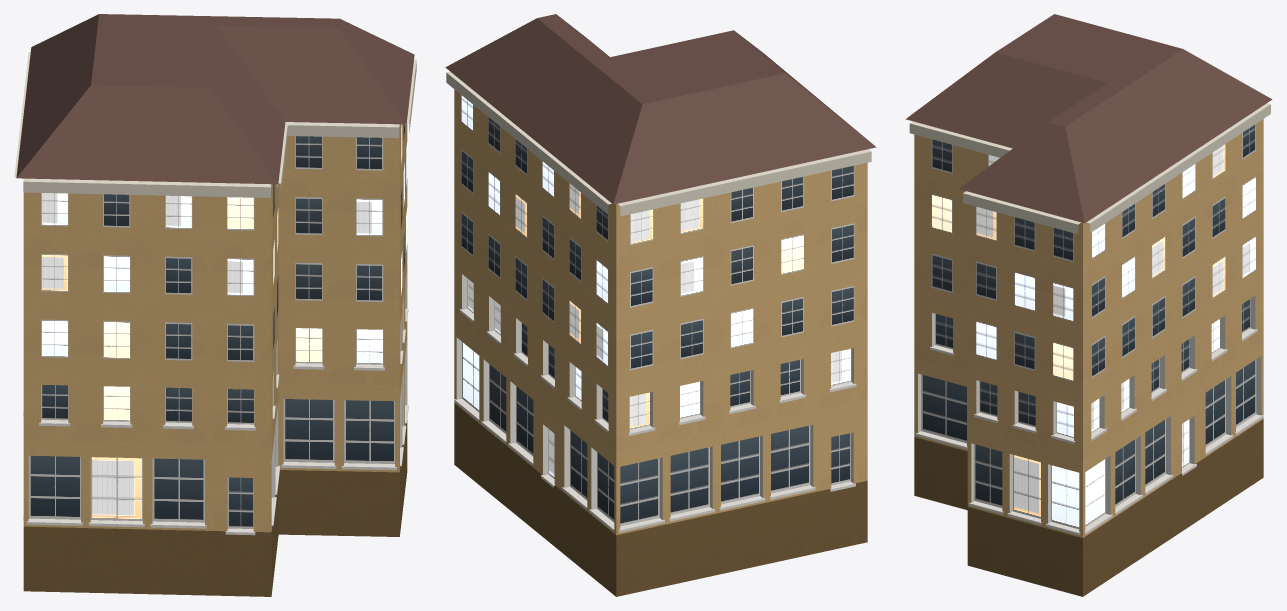
Rendered from z3c_hb_ochre.glb.
The picture shows the model from 3 angles, left to right: view 1: azimuth 30°, elevation 25°; view 2: azimuth 150°, elevation 25°; view 3: azimuth 270°, elevation 25°; orthographic projection. The views are drawn at different scales.
Visible parts, largest first — view 1: z3c_hb_ochre; view 2: z3c_hb_ochre; view 3: z3c_hb_ochre.
Boxes of the visible parts, x1=… form: z3c_hb_ochre: x1=14, y1=14, x2=416, y2=596; z3c_hb_ochre: x1=445, y1=14, x2=876, y2=596; z3c_hb_ochre: x1=905, y1=14, x2=1272, y2=596.
Bounding box in the file's own units: 20.66 × 22.29 × 17.01.
Materials: 3 (3 with a texture image).
